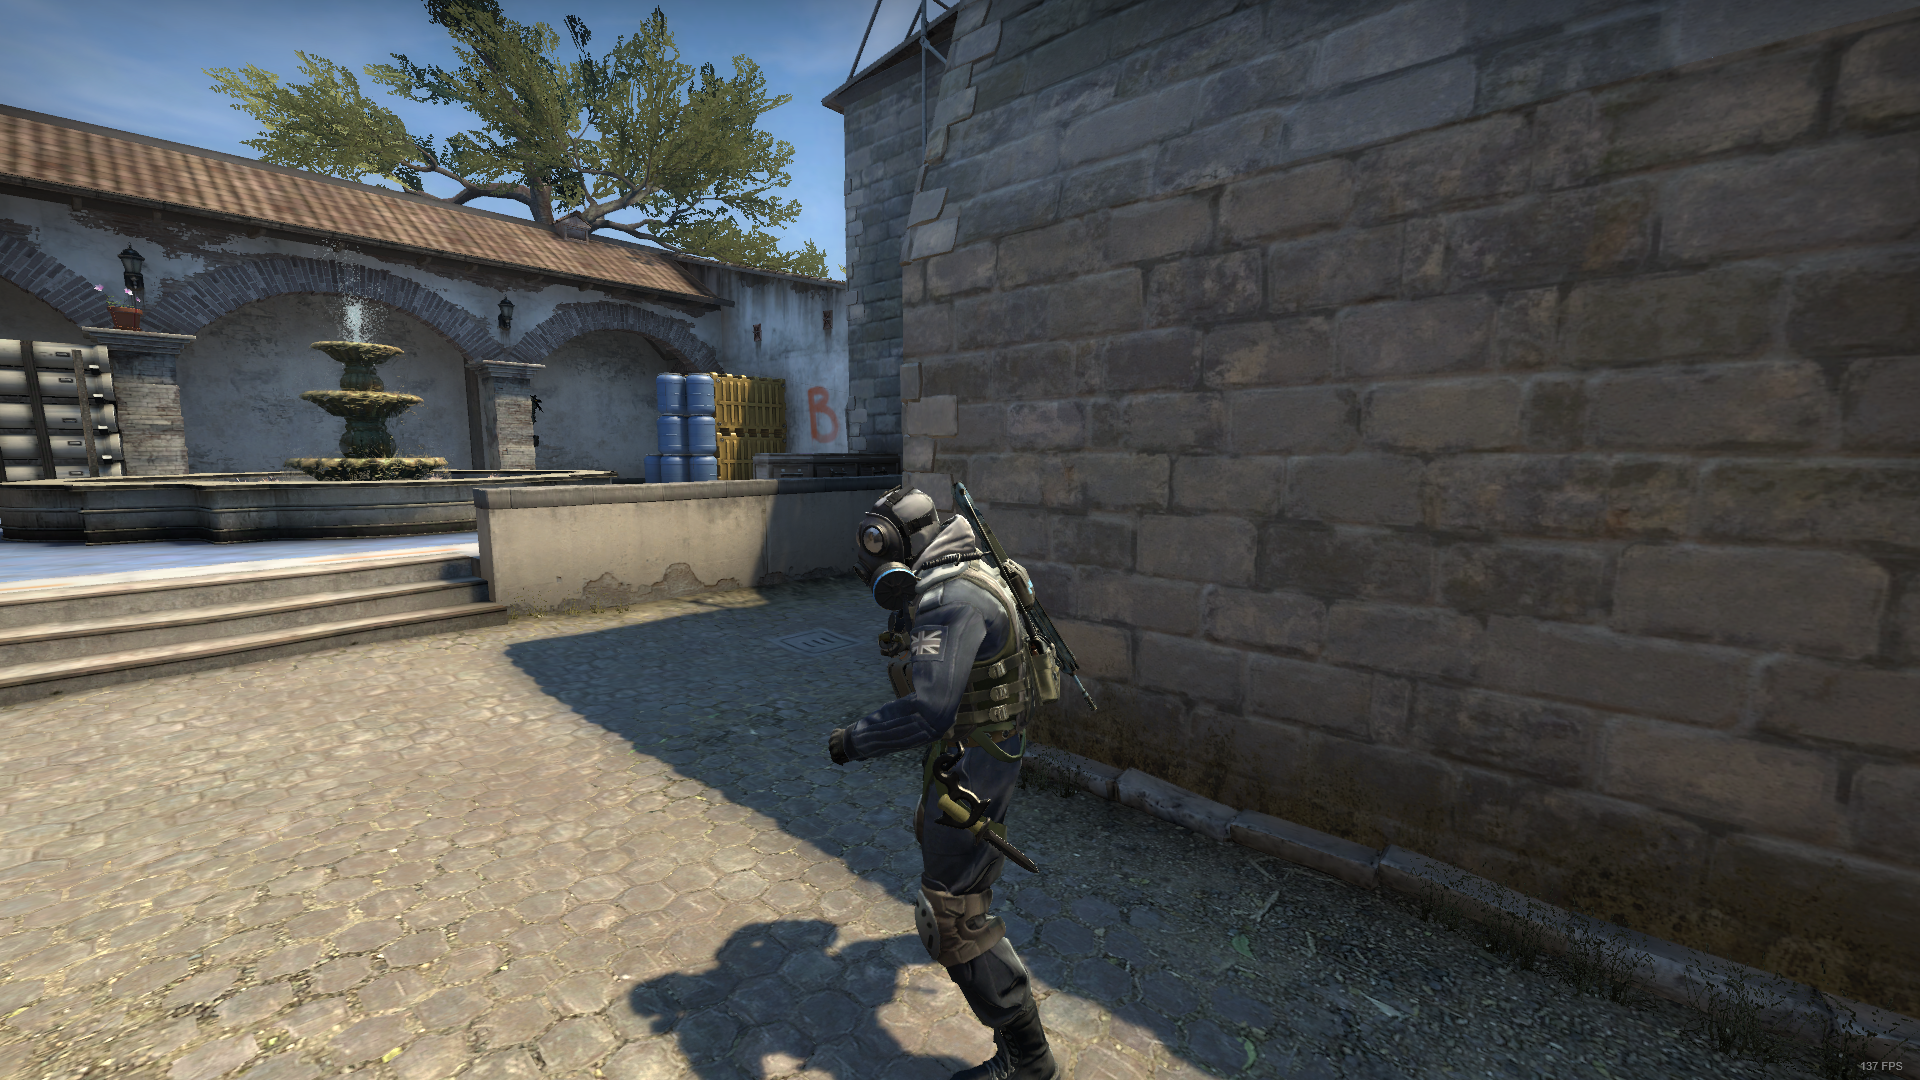ct: (804, 462, 1139, 1080)
